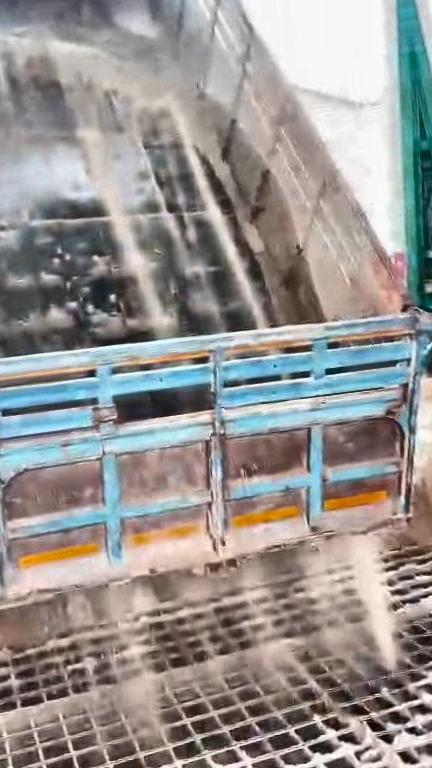sand: (0, 378, 432, 704), (0, 30, 270, 335), (0, 580, 432, 733), (338, 712, 432, 768), (0, 527, 12, 658)
